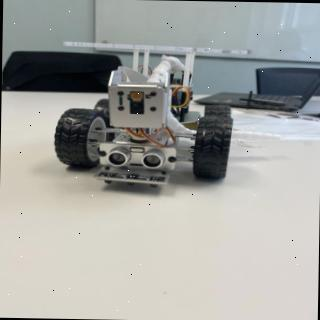vehicle: (52, 32, 243, 195)
